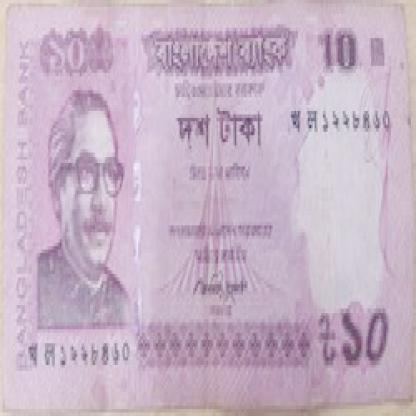Ten Taka: (338, 298, 392, 371), (318, 17, 361, 80), (43, 24, 88, 83)
